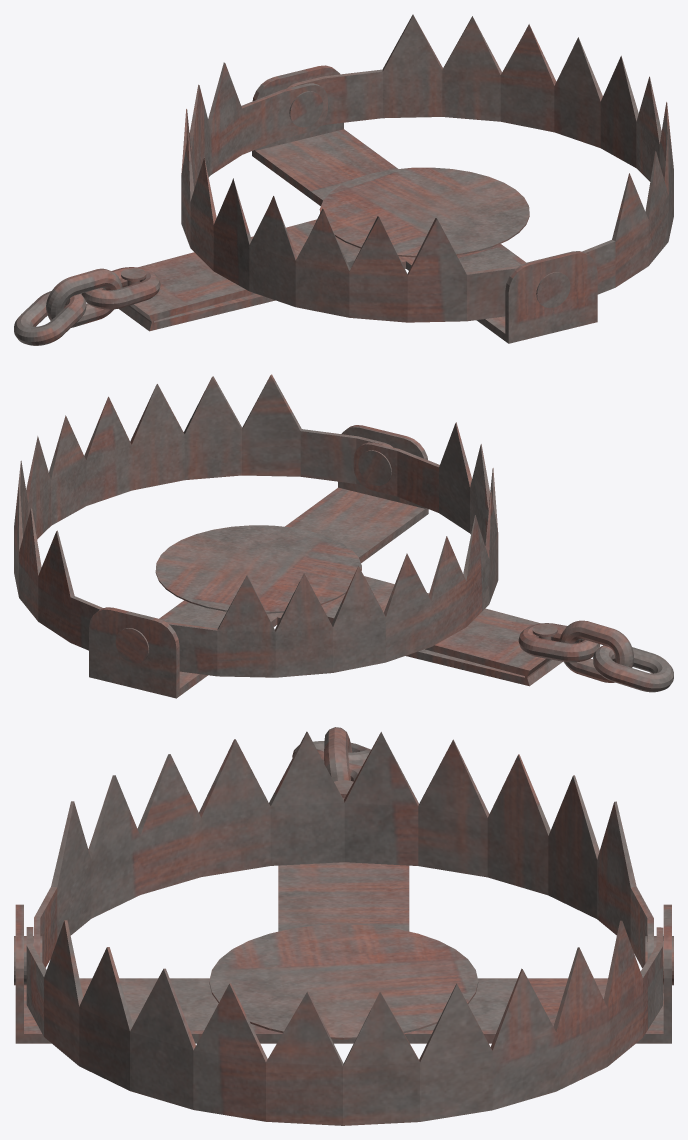
File: bear_trap.glb
3 renders of one model, top to bottom at view 1: azimuth 30°, elevation 25°; view 2: azimuth 150°, elevation 25°; view 3: azimuth 270°, elevation 25°, orthographic. The views are drawn at different scales.
Parts seen in each view (by area): view 1: BearTrap.MainFrame, BearTrap.RightClaw, BearTrap.LeftClaw; view 2: BearTrap.MainFrame, BearTrap.RightClaw, BearTrap.LeftClaw; view 3: BearTrap.LeftClaw, BearTrap.RightClaw, BearTrap.MainFrame.
Part boxes in pixels (x1=…): BearTrap.MainFrame: x1=14, y1=65, x2=597, y2=345; BearTrap.RightClaw: x1=181, y1=62, x2=518, y2=322; BearTrap.LeftClaw: x1=287, y1=14, x2=673, y2=294; BearTrap.MainFrame: x1=89, y1=425, x2=673, y2=698; BearTrap.RightClaw: x1=166, y1=422, x2=498, y2=677; BearTrap.LeftClaw: x1=14, y1=374, x2=392, y2=650; BearTrap.LeftClaw: x1=26, y1=920, x2=663, y2=1125; BearTrap.RightClaw: x1=34, y1=731, x2=653, y2=967; BearTrap.MainFrame: x1=14, y1=727, x2=673, y2=1043.
Bounding box in the file's own units: 0.2829 × 0.0529 × 0.2012.
Materials: 1 (1 with a texture image).
